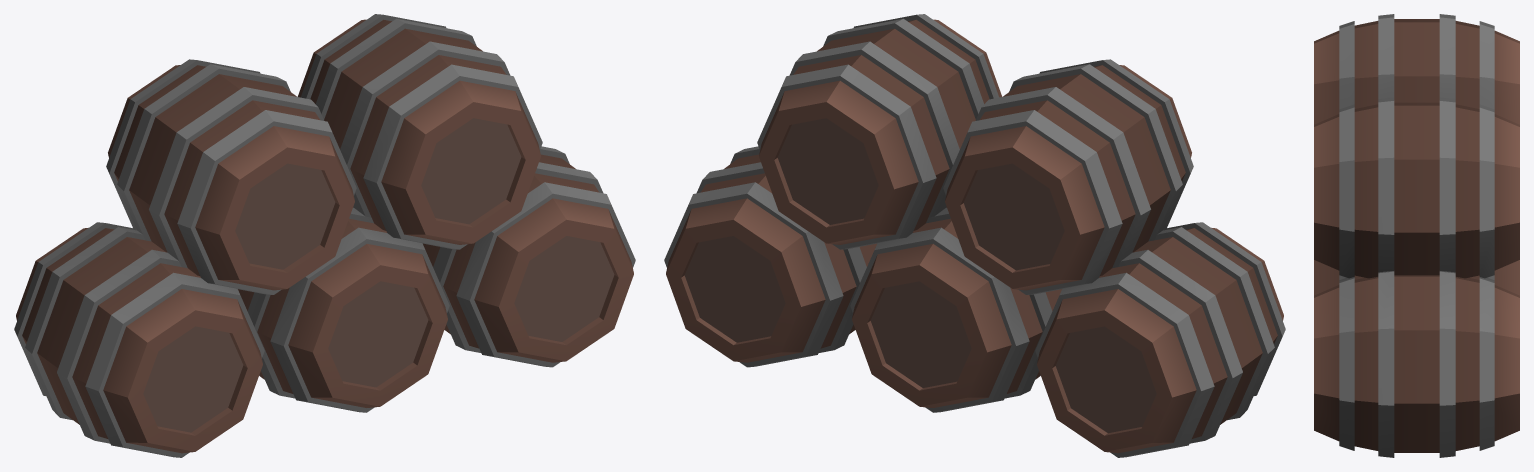
The model's file is village_barrels_001.glb.
3 views of the same model, side by side, from view 1: azimuth 30°, elevation 25°; view 2: azimuth 150°, elevation 25°; view 3: azimuth 270°, elevation 25° (orthographic). The views are drawn at different scales.
Parts seen in each view (by area): view 1: props_055; view 2: props_055; view 3: props_055.
Boxes of the visible parts, box(x1,y1,x2,y2) form: props_055: box(14, 14, 635, 457); props_055: box(664, 14, 1285, 457); props_055: box(1314, 14, 1519, 457).
Size of the model in its own units: 4.72 by 2.73 by 1.63.
Materials: 1 (1 with a texture image).
